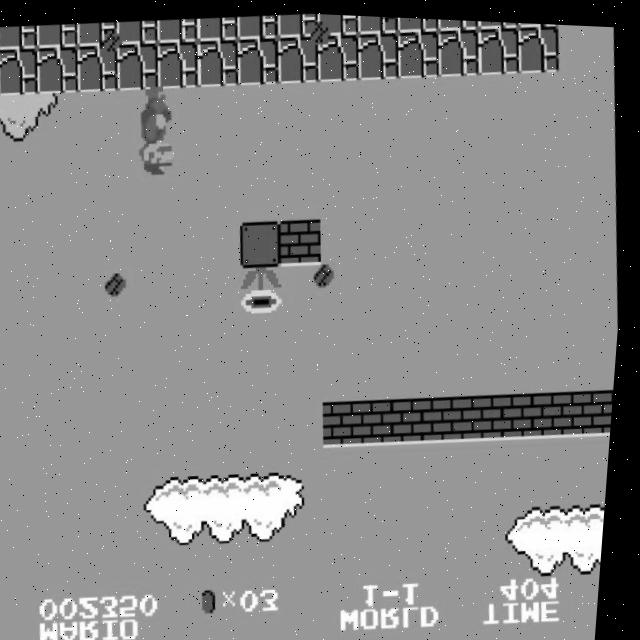0- big_mario: (128, 82, 185, 181)
1- brick_block: (280, 214, 328, 265), (325, 395, 373, 445), (365, 393, 413, 443), (445, 389, 493, 439), (485, 387, 533, 437), (525, 385, 573, 435), (405, 392, 453, 441), (566, 383, 613, 433), (606, 383, 619, 429)
17- undestructible_block: (194, 35, 242, 86), (234, 33, 282, 84), (274, 31, 322, 82), (355, 27, 403, 78), (34, 44, 82, 94), (74, 42, 122, 92), (114, 40, 162, 90), (154, 38, 202, 88), (435, 23, 483, 73), (475, 21, 523, 71), (315, 29, 362, 80), (395, 25, 442, 75), (515, 19, 562, 69), (0, 46, 41, 97), (75, 19, 120, 47), (35, 21, 79, 49), (115, 17, 159, 45), (195, 13, 240, 40), (155, 15, 199, 42), (235, 11, 279, 38), (275, 10, 319, 36), (315, 11, 359, 35), (0, 23, 39, 50), (355, 12, 399, 32), (395, 14, 439, 30), (435, 15, 479, 28), (476, 17, 519, 26)
3- empty_block: (240, 216, 287, 267)
6- flower: (239, 262, 289, 316)
